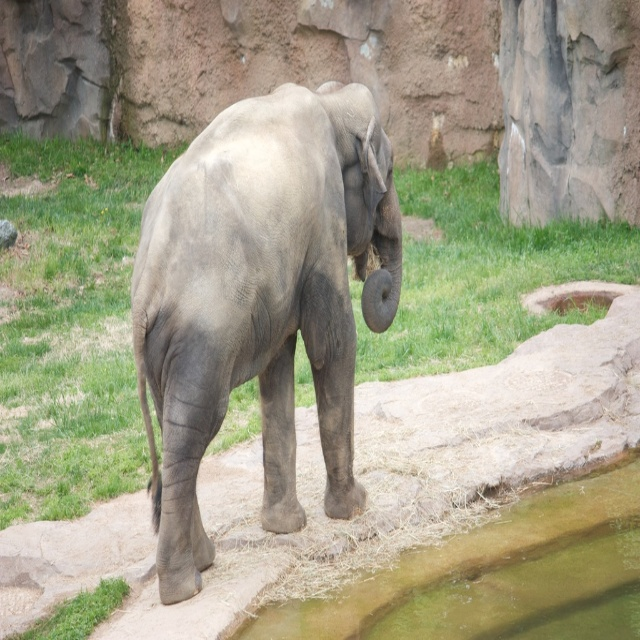Elephant: (155, 80, 402, 605)
